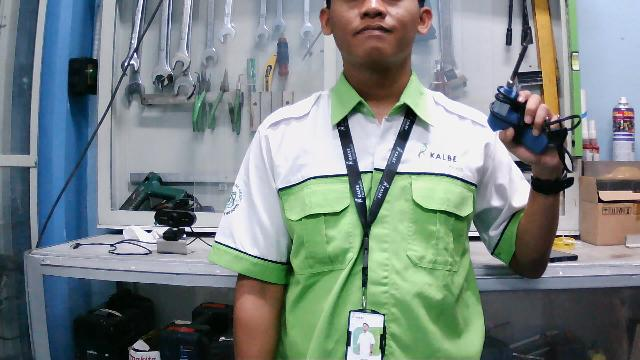solder_electrical: (486, 27, 583, 174)
